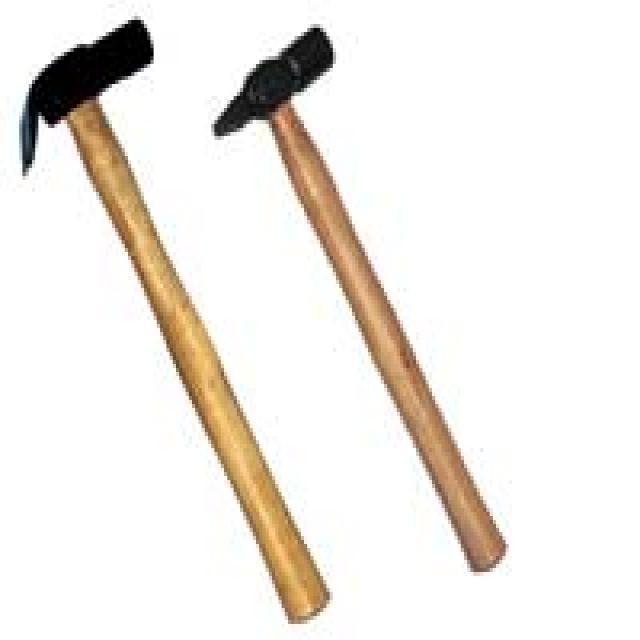hammer: (9, 9, 337, 636), (202, 15, 514, 586)
